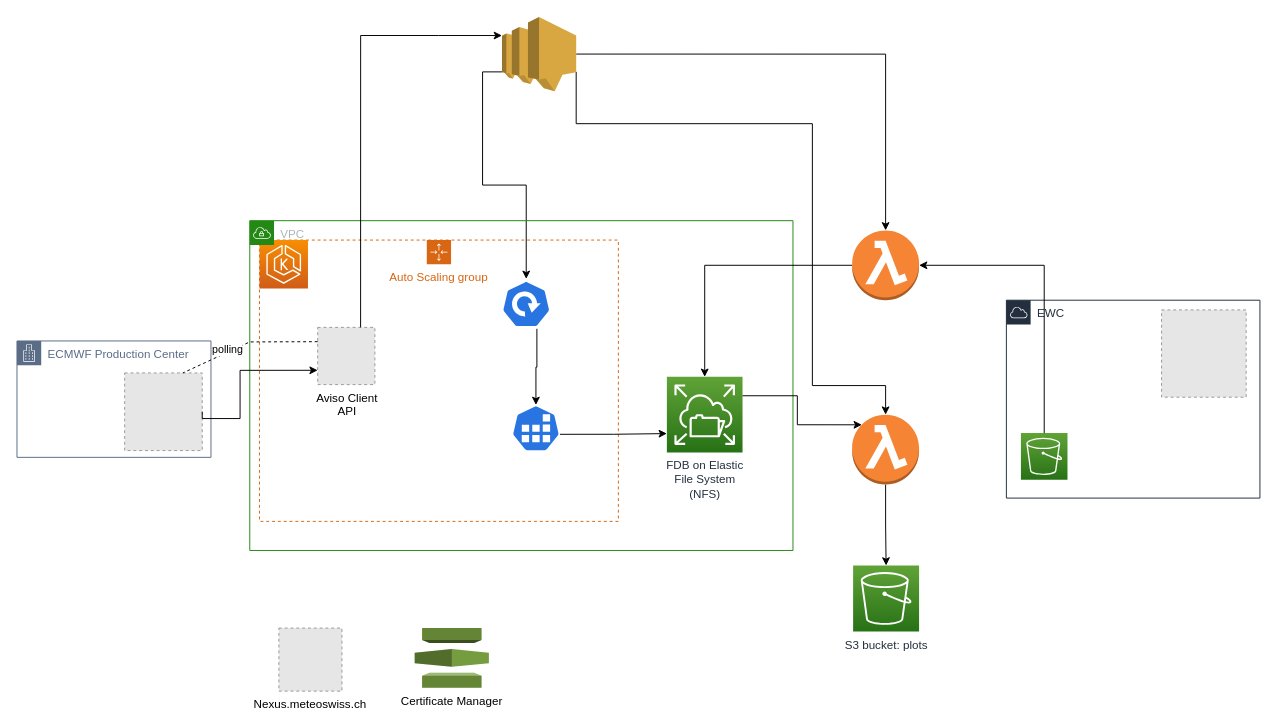
Some shapes in this 1277 by 728 pixel diagram are drawn without their labels. Grey dashed boxes stand in for pictures. Each missing label, with the centre of its shape:
"flexpart" goes at [535,428].
"Flexpart Pre-processing" goes at [885,264].
"Flexpart-s" goes at [525,303].
"pyflexplot" goes at [885,449].
"Simple Notification Service" goes at [538,53].
